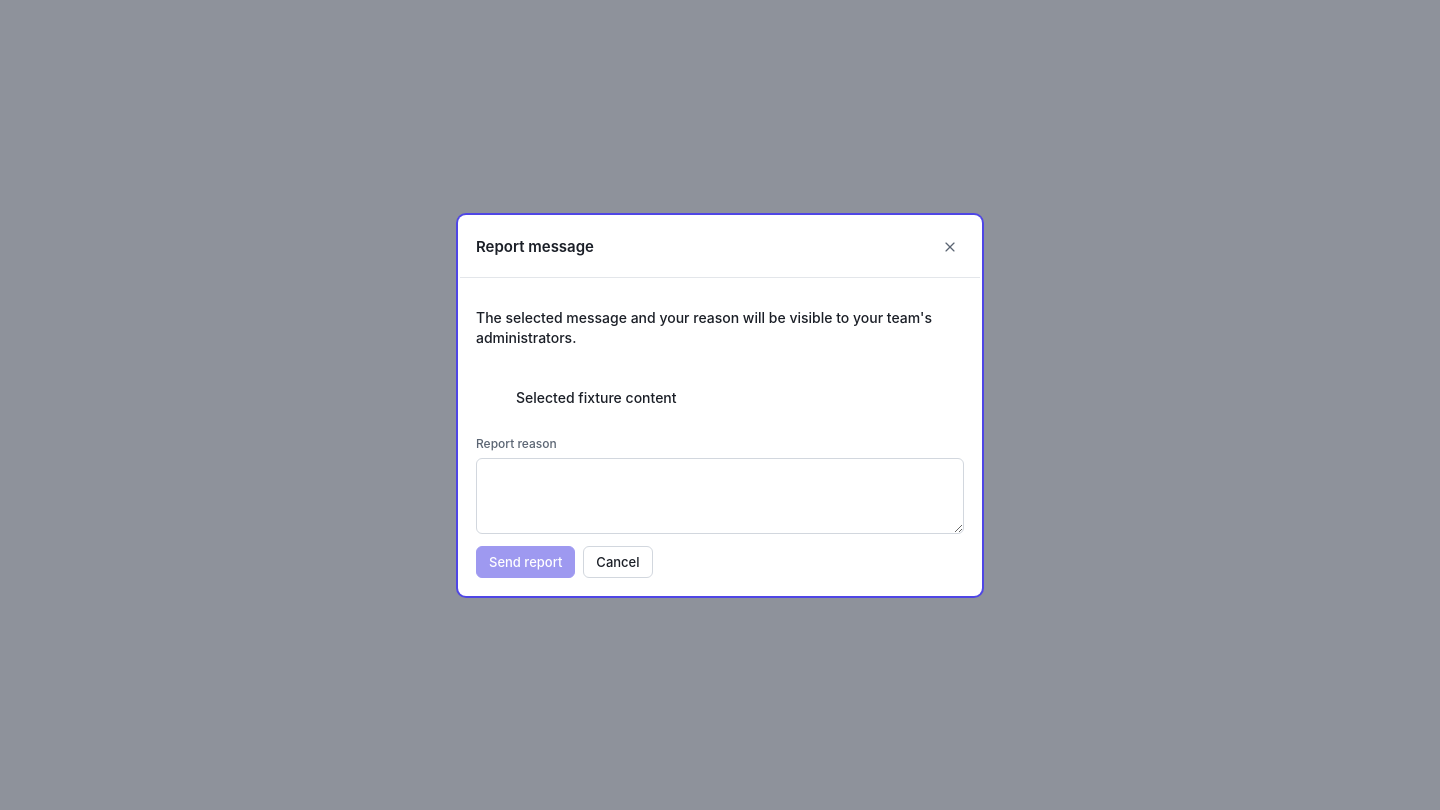
Test: keeps a report reason after a network failure and sends only the selected message on explicit retry
Step 1. Type "Please review this" into the text box labelled "Report reason" → (720, 496), box [476,458,964,534]
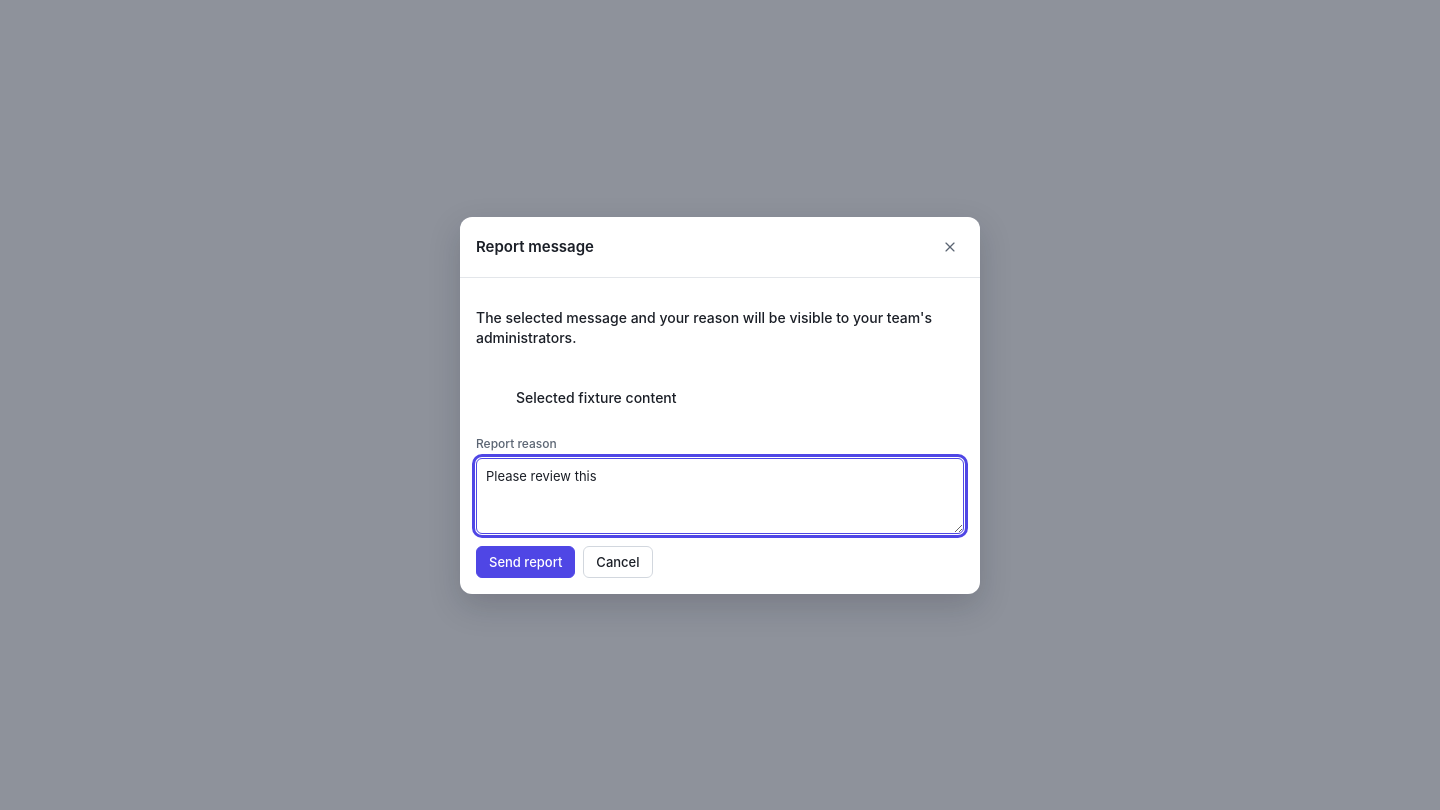
Step 2. Click the button "Send report" → (526, 562), box [476,546,575,578]
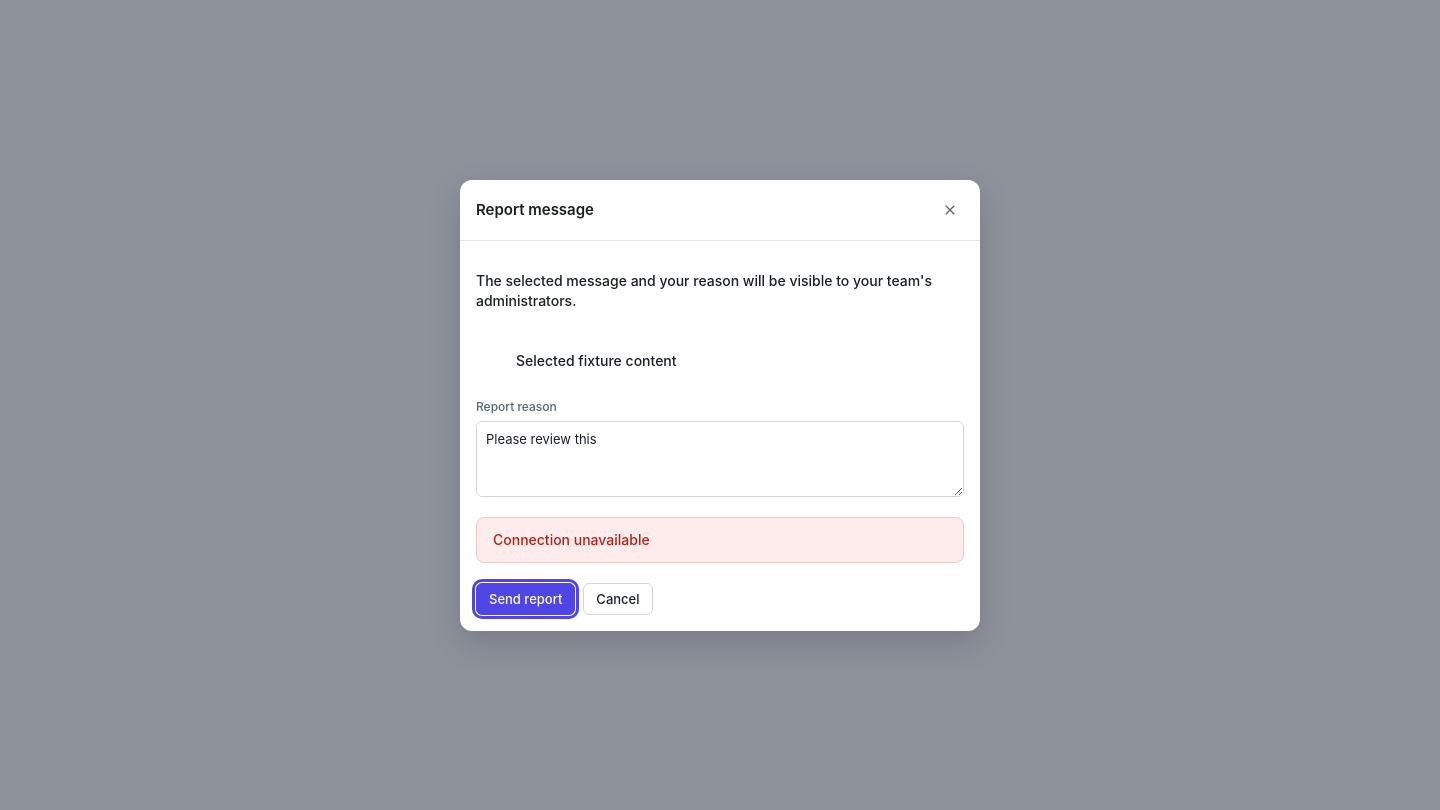
Expected: the text "Connection unavailable" is shown, [476,516,964,562]
Step 3. Click the button "Send report" → (526, 598), box [476,582,575,614]
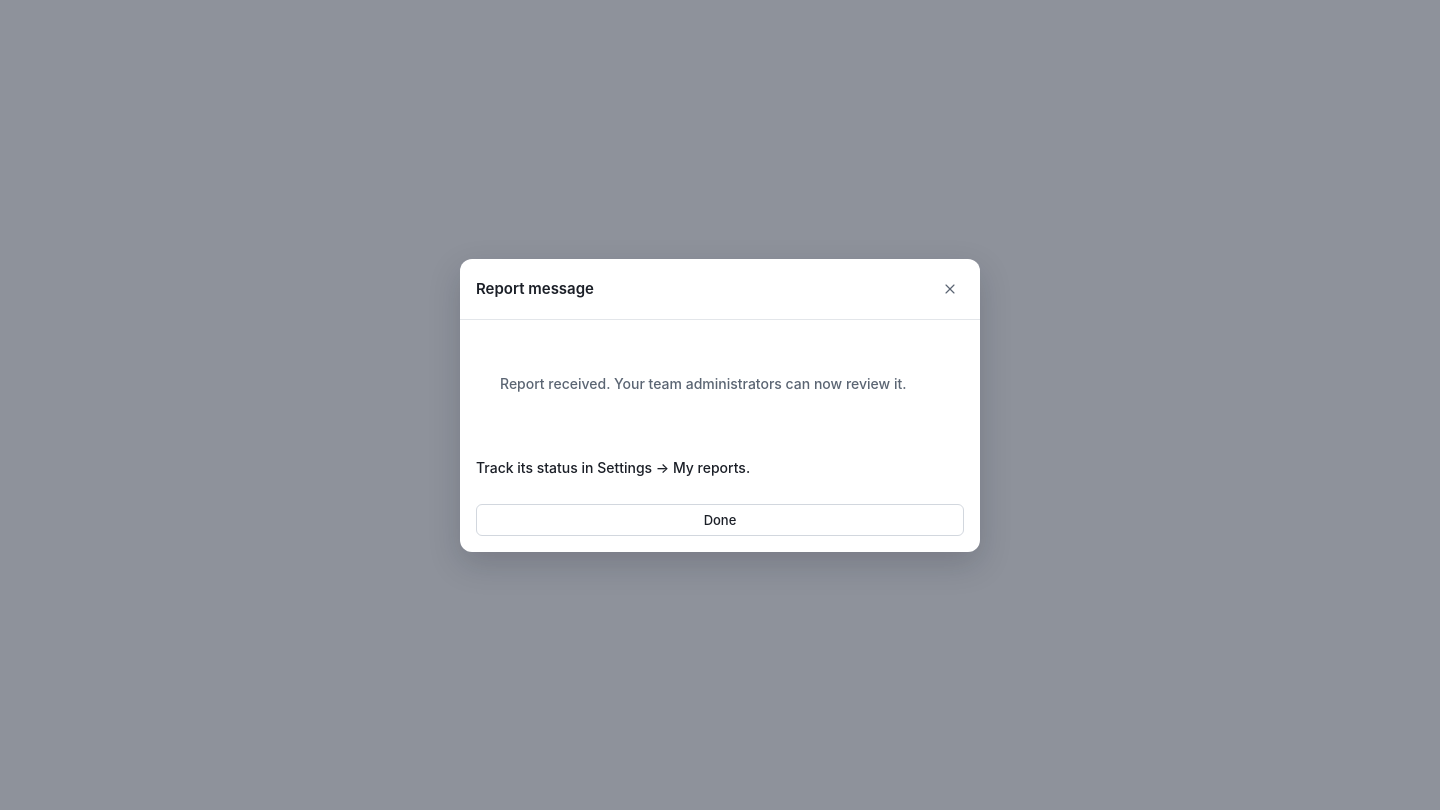
Expected: the text "Report received. Your team administrators can now review it." is shown, [500,374,906,392]
